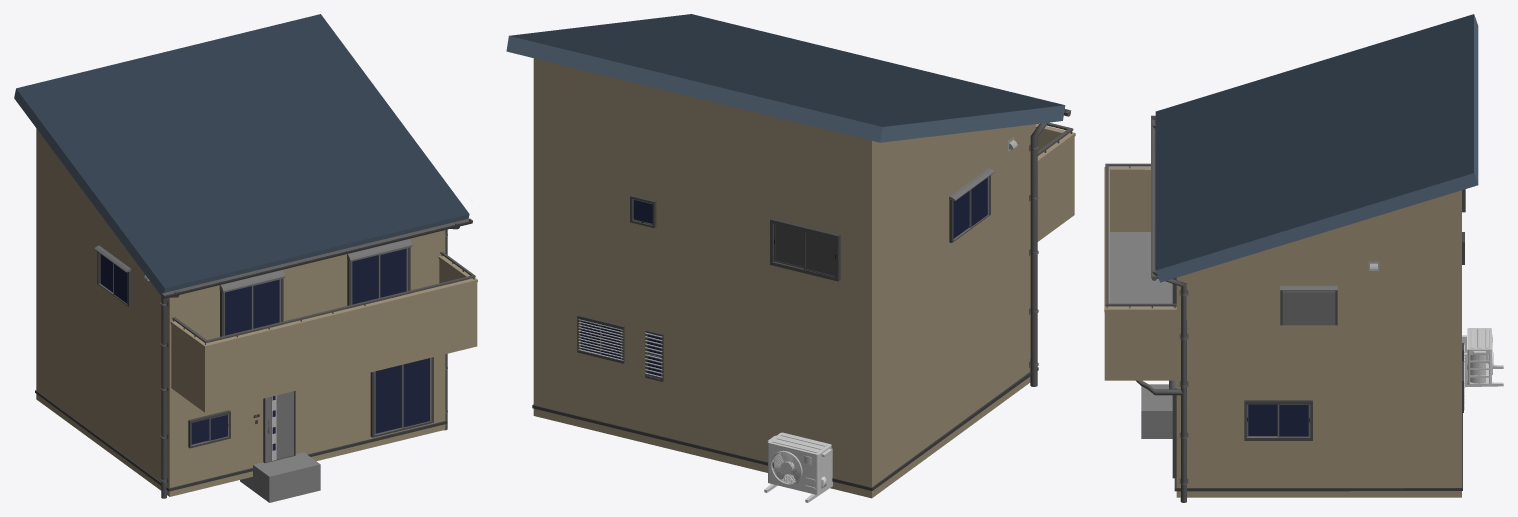
Rendered from house006_high.fbx.
3 renders of one model, left to right at view 1: azimuth 30°, elevation 25°; view 2: azimuth 150°, elevation 25°; view 3: azimuth 270°, elevation 25°, orthographic. The views are drawn at different scales.
Parts seen in each view (by area): view 1: pCube79; view 2: pCube79; view 3: pCube79.
Boxes of the visible parts, left/top/right/bottom form: pCube79: left=14, top=14, right=477, bottom=502; pCube79: left=506, top=14, right=1075, bottom=502; pCube79: left=1104, top=14, right=1503, bottom=502.
Size of the model in its own units: 11.81 by 10.82 by 11.29.
